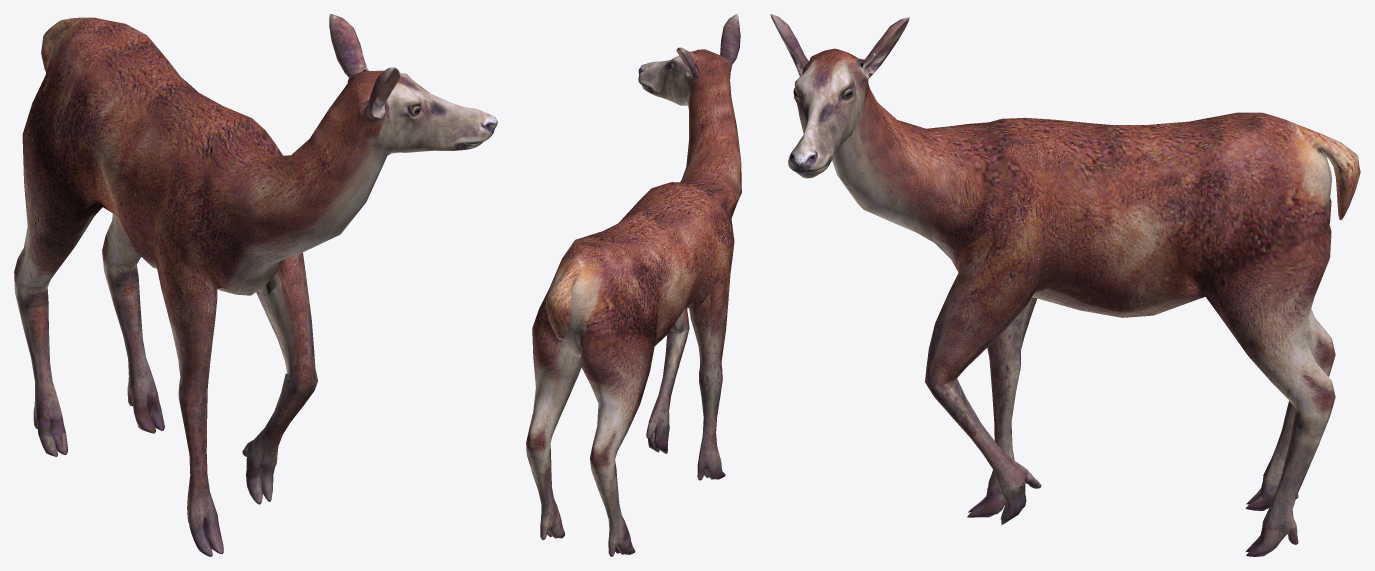
The model's file is deer.obj.
3 views of the same model, side by side, from view 1: azimuth 30°, elevation 25°; view 2: azimuth 150°, elevation 25°; view 3: azimuth 270°, elevation 25° (orthographic). The views are drawn at different scales.
Parts seen in each view (by area): view 1: Body_body, Head_head; view 2: Body_body, Head_head; view 3: Body_body, Head_head.
Part boxes in pixels (box(x1,y1,x2,y2)): Body_body: box(14, 17, 390, 556); Head_head: box(329, 14, 497, 153); Body_body: box(526, 59, 741, 556); Head_head: box(638, 14, 740, 105); Body_body: box(832, 83, 1360, 556); Head_head: box(770, 14, 909, 178).
Bounding box in the file's own units: 2.49 × 5.54 × 5.5.
